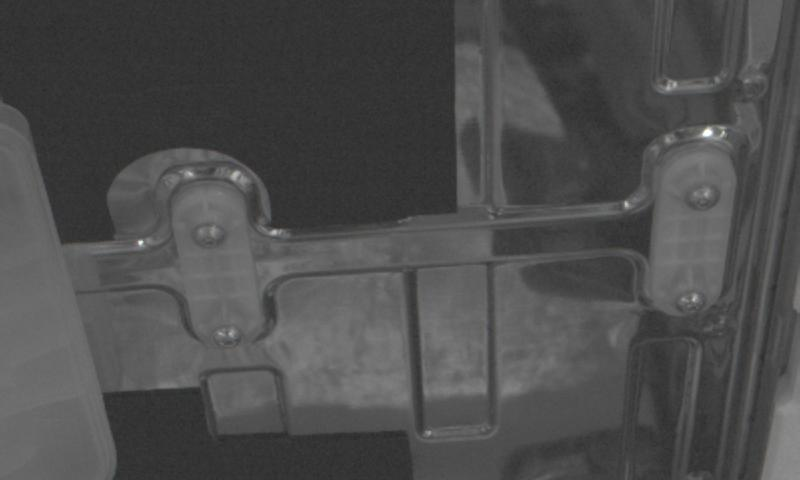vida-ok: (680, 178, 727, 222), (193, 213, 239, 257), (667, 284, 712, 323), (206, 319, 251, 358)
